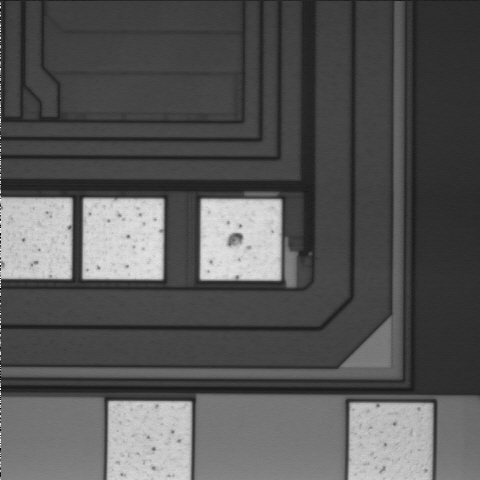pad: (200, 199, 281, 280), (83, 199, 163, 279)
